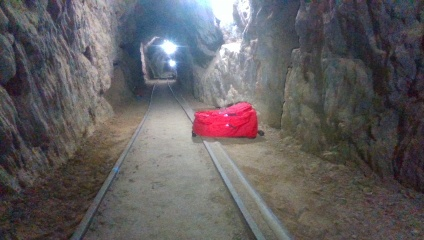backpack: (190, 103, 263, 141)
